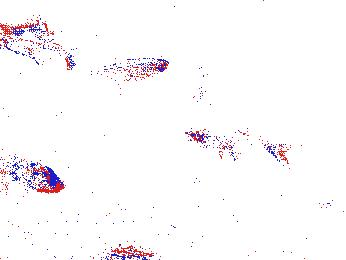red belly glassfish: (105, 247, 153, 260)
redtail glassfish: (186, 125, 301, 170), (1, 32, 77, 71), (84, 55, 171, 87)
